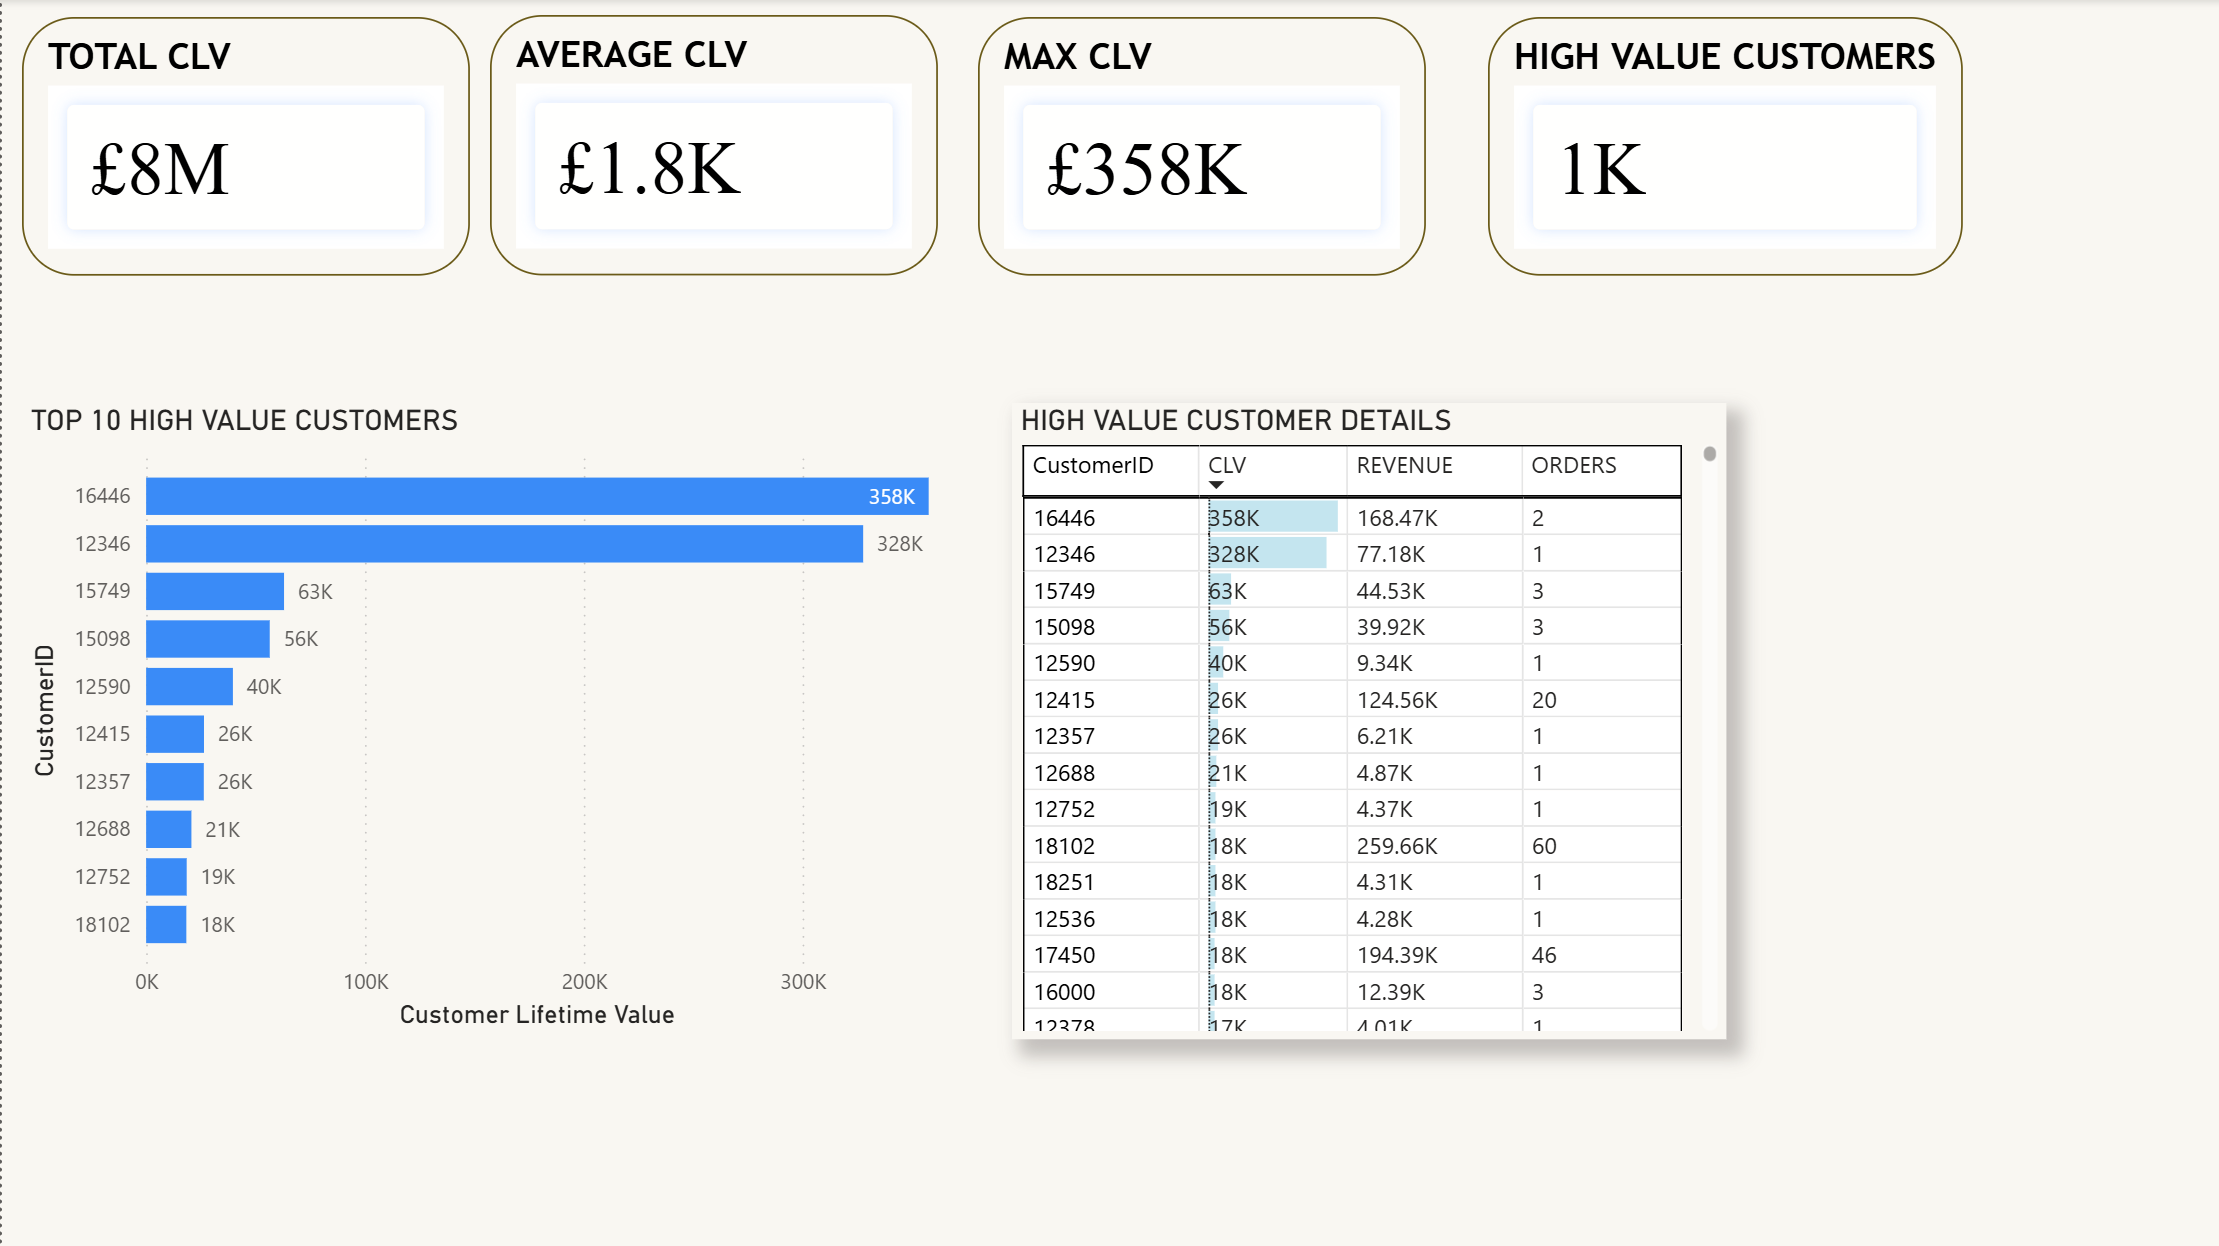

This screenshot's page, from the dashboard's own definition file:
{"tool":"powerbi","page":{"name":"CLV Analysis","canvas":[1280,720],"ordinal":2},"visuals":[{"type":"clusteredBarChart","title":"TOP 10 HIGH VALUE CUSTOMERS","fields":{"Category":["clv_data.CustomerID"],"Y":["Sum(clv_data.CLV)"]},"box":[11.2,232.5,541.2,365],"z":0},{"type":"tableEx","title":"HIGH VALUE CUSTOMER DETAILS","fields":{"Values":["clv_data.CustomerID","Sum(clv_data.CLV)","clv_data.TotalRevenue","clv_data.TotalOrders"]},"box":[581.2,232.5,411.2,366.2],"z":1000},{"type":"cardVisual","title":"TOTAL CLV","fields":{"Data":["clv_data.Total CLV"]},"box":[11.6,10.5,258.1,148.8],"z":2000},{"type":"cardVisual","title":"AVERAGE CLV","fields":{"Data":["clv_data.Average CLV"]},"box":[281.4,9.3,258.1,150],"z":3000},{"type":"cardVisual","title":"MAX CLV","fields":{"Data":["clv_data.Max CLV"]},"box":[561.6,10.5,258.1,148.8],"z":4000},{"type":"cardVisual","title":"HIGH VALUE CUSTOMERS","fields":{"Data":["clv_data.High Value Customers"]},"box":[855.8,10.5,273.3,148.8],"z":5000}]}

Visuals, with their boxes in screenshot pixels (x1, y1, x2, y2), scaled from the page's 1280x720 canvas onto the 2219x1246 screenshot:
"TOP 10 HIGH VALUE CUSTOMERS" clusteredBarChart: {"left": 19, "top": 402, "right": 958, "bottom": 1034}
"HIGH VALUE CUSTOMER DETAILS" tableEx: {"left": 1008, "top": 402, "right": 1720, "bottom": 1036}
"TOTAL CLV" cardVisual: {"left": 20, "top": 18, "right": 468, "bottom": 276}
"AVERAGE CLV" cardVisual: {"left": 488, "top": 16, "right": 935, "bottom": 276}
"MAX CLV" cardVisual: {"left": 974, "top": 18, "right": 1421, "bottom": 276}
"HIGH VALUE CUSTOMERS" cardVisual: {"left": 1484, "top": 18, "right": 1957, "bottom": 276}
